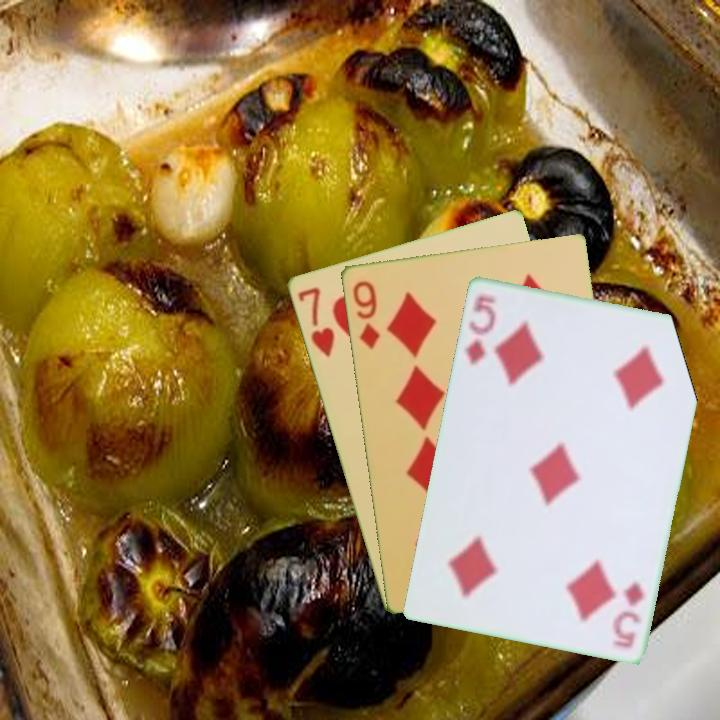5d: (461, 291, 498, 367), (609, 578, 647, 651)
7h: (293, 283, 337, 360)
9d: (348, 276, 382, 352)
